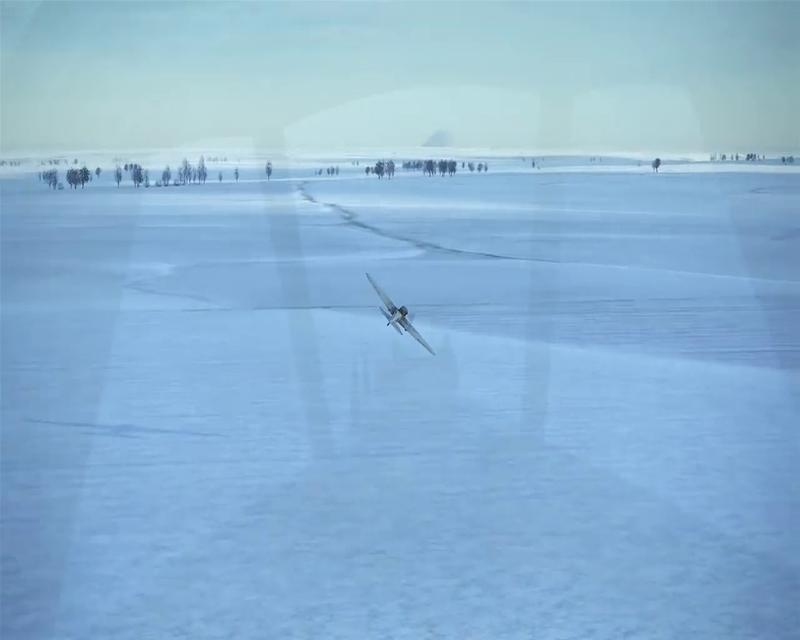UAV: (364, 272, 437, 358)
